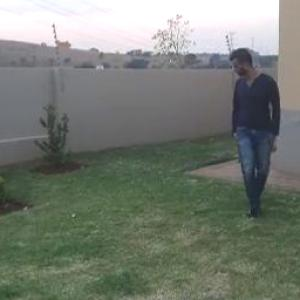follow: (229, 40, 292, 225)
